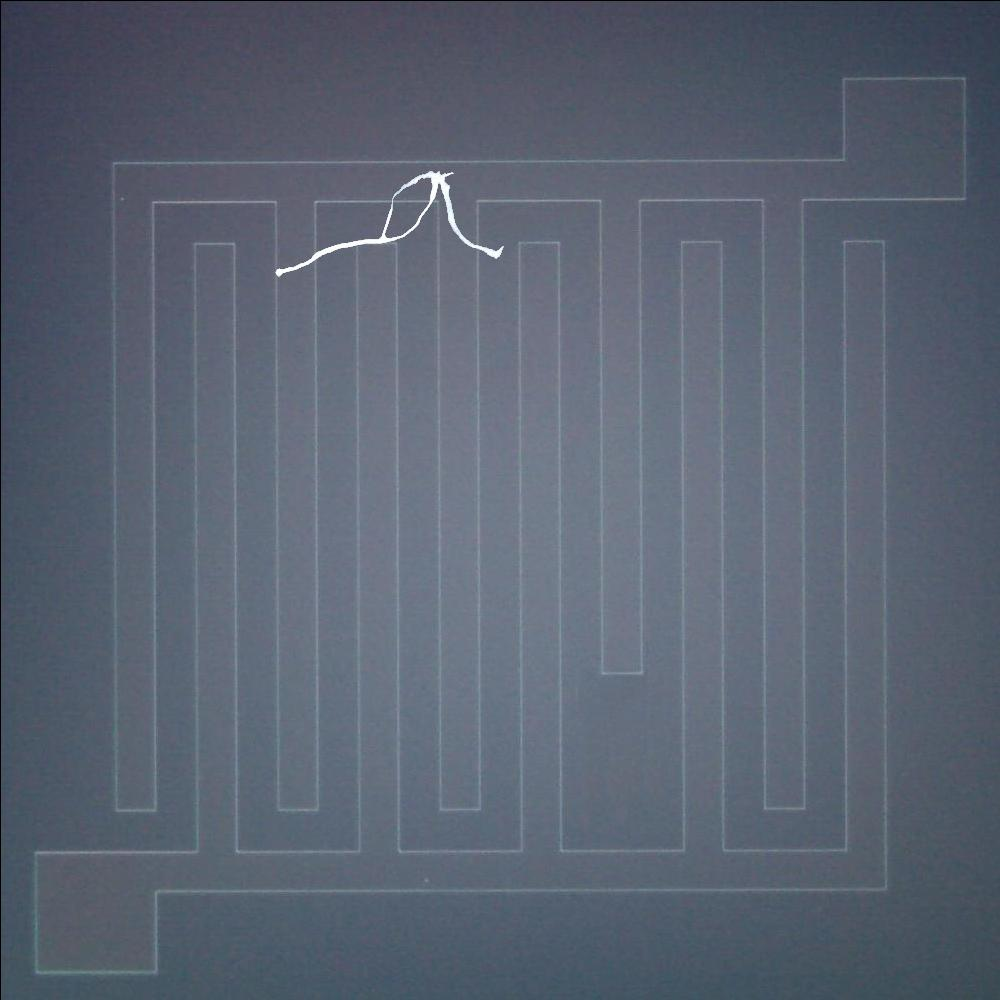line: (267, 160, 508, 286)
